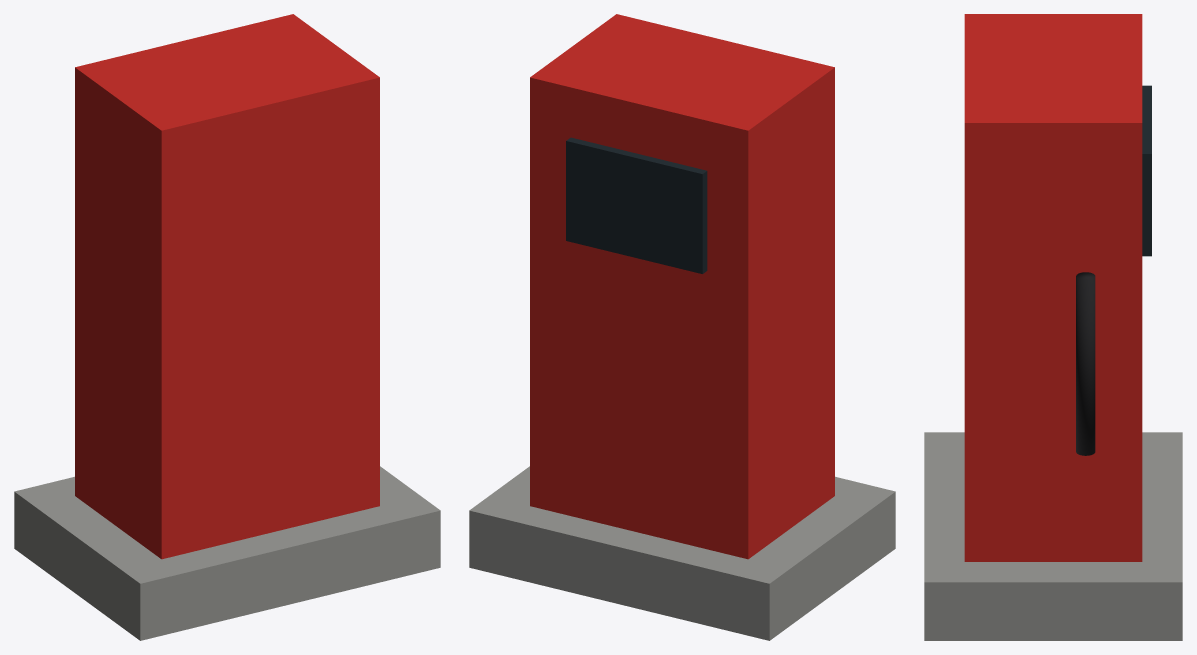
Rendered from GasPump.fbx.
3 views of the same model, side by side, from view 1: azimuth 30°, elevation 25°; view 2: azimuth 150°, elevation 25°; view 3: azimuth 270°, elevation 25° (orthographic). The views are drawn at different scales.
Parts seen in each view (by area): view 1: Body, Base; view 2: Body, Base, Screen; view 3: Body, Base, Hose, Screen.
Part boxes in pixels (x1=…): Body: x1=75, y1=14, x2=379, y2=559; Base: x1=14, y1=466, x2=440, y2=640; Body: x1=530, y1=14, x2=834, y2=559; Base: x1=469, y1=466, x2=895, y2=640; Screen: x1=566, y1=137, x2=707, y2=273; Body: x1=964, y1=14, x2=1142, y2=561; Base: x1=924, y1=432, x2=1182, y2=640; Hose: x1=1076, y1=272, x2=1095, y2=455; Screen: x1=1142, y1=85, x2=1151, y2=256.
Bounding box in the file's own units: 110 × 80 × 170.
